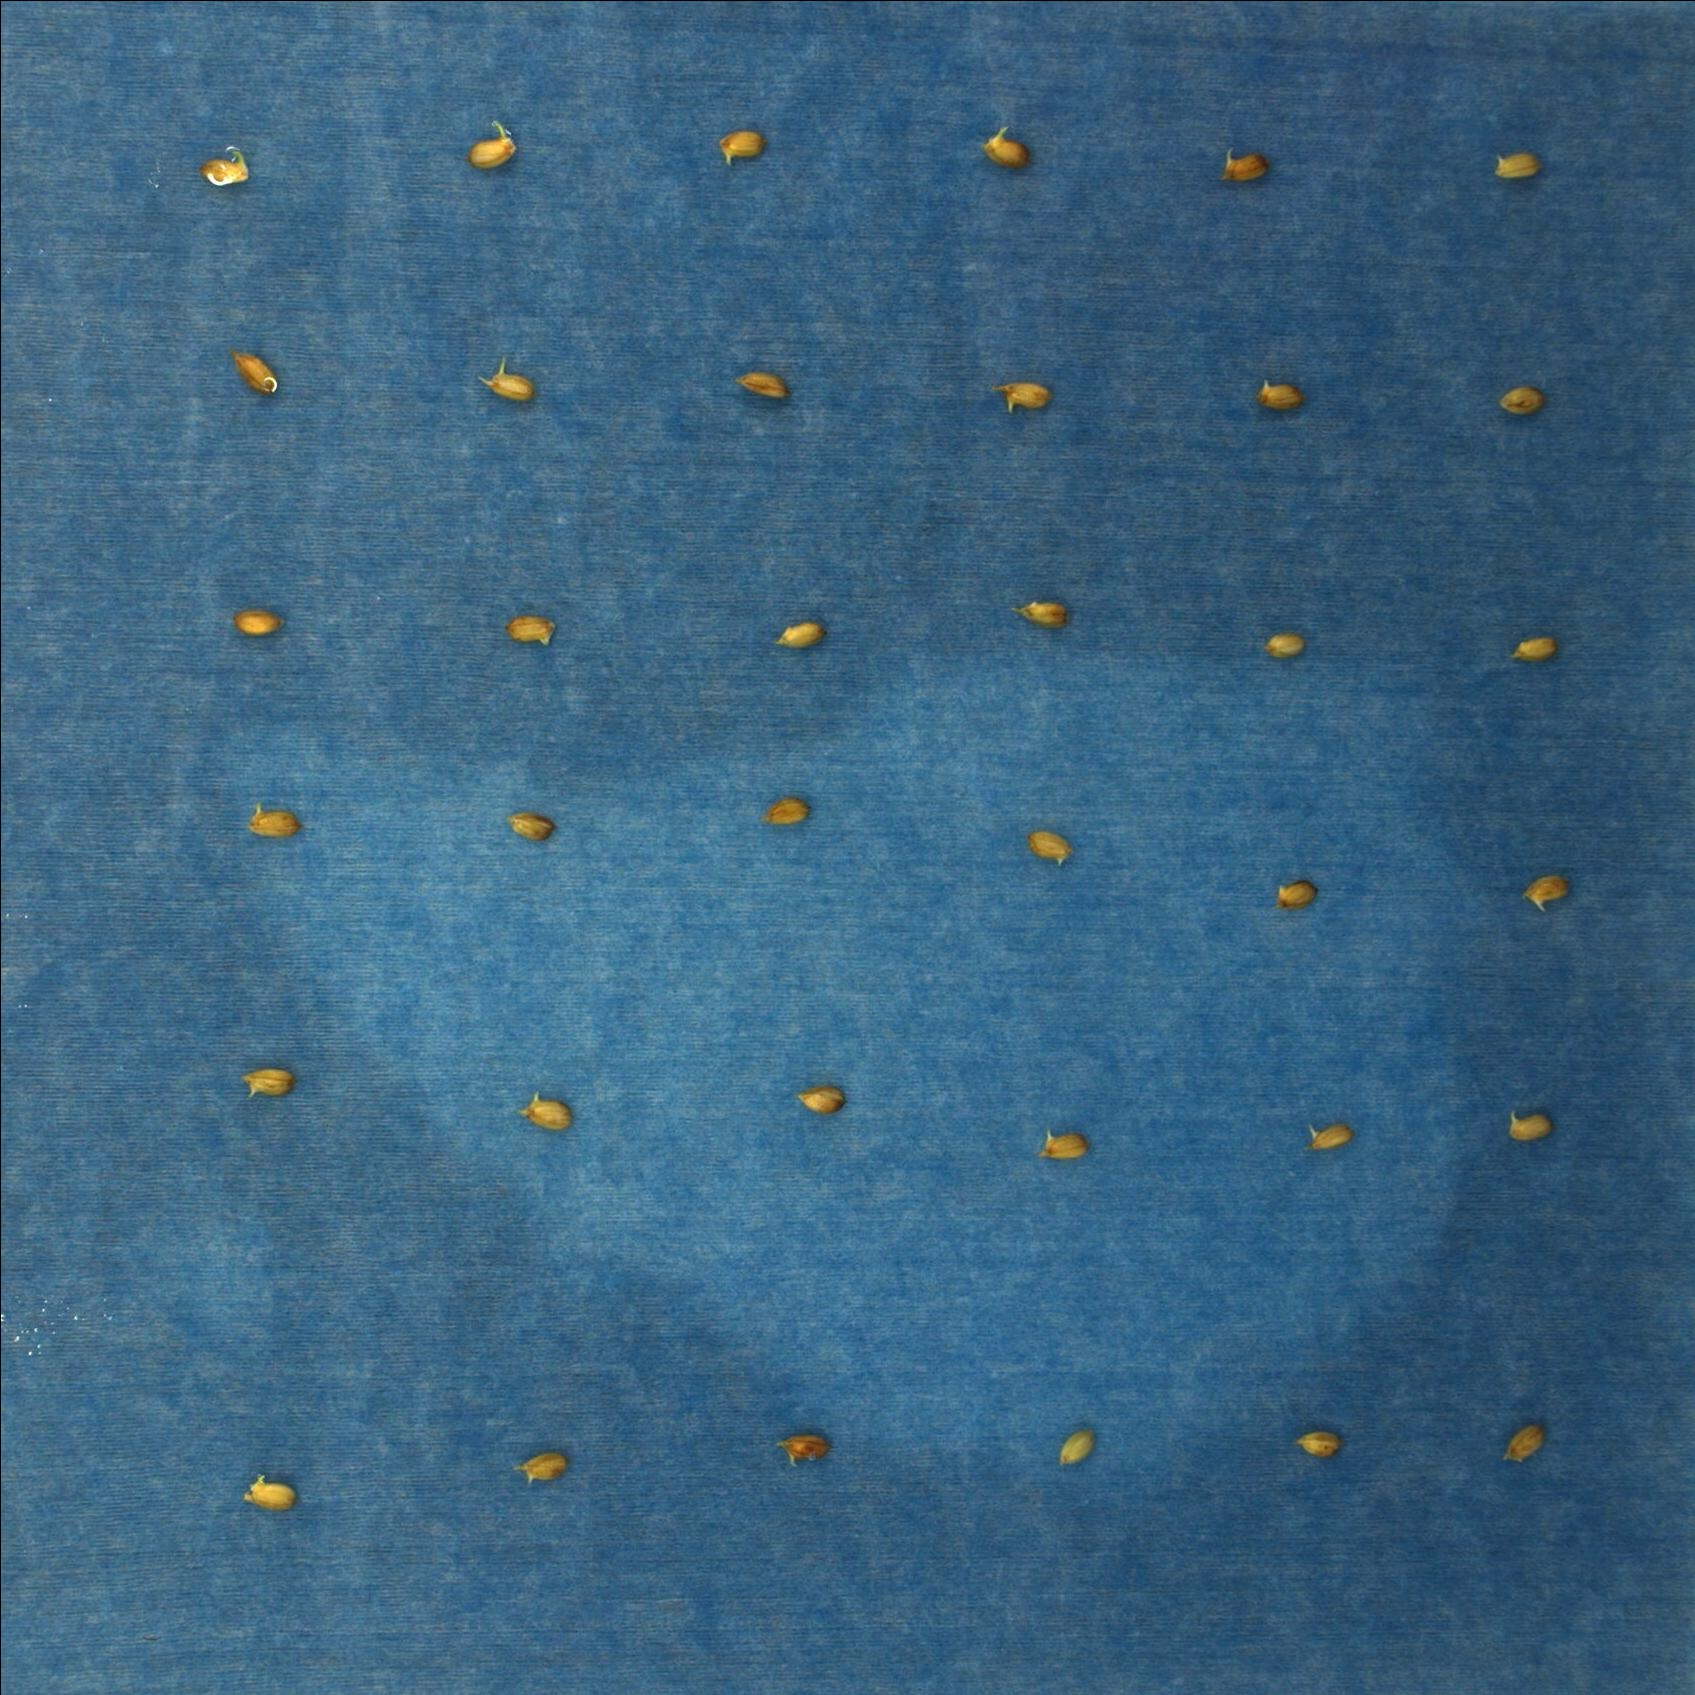not sprout: (233, 1464, 307, 1518), (459, 112, 529, 169), (230, 590, 293, 649), (222, 345, 289, 400), (477, 352, 542, 407), (501, 607, 562, 660), (1495, 1412, 1544, 1476), (515, 1090, 582, 1136), (712, 121, 771, 172), (762, 612, 835, 652), (197, 143, 255, 194), (248, 799, 309, 847), (1038, 1121, 1097, 1169), (795, 1077, 858, 1121), (731, 366, 792, 410), (1518, 865, 1572, 913), (973, 127, 1035, 169), (771, 1426, 835, 1467), (1256, 369, 1305, 421), (241, 1062, 298, 1105), (1028, 820, 1077, 869), (1020, 590, 1069, 638), (1504, 1105, 1558, 1149), (1218, 143, 1274, 185), (1487, 149, 1544, 189), (1052, 1430, 1107, 1470), (765, 789, 816, 830), (1273, 875, 1329, 913), (995, 376, 1052, 411), (518, 1451, 573, 1489), (1298, 1425, 1346, 1467), (508, 806, 560, 841), (1495, 380, 1541, 421), (1307, 1118, 1354, 1158), (1513, 632, 1562, 671), (1256, 626, 1307, 660)
